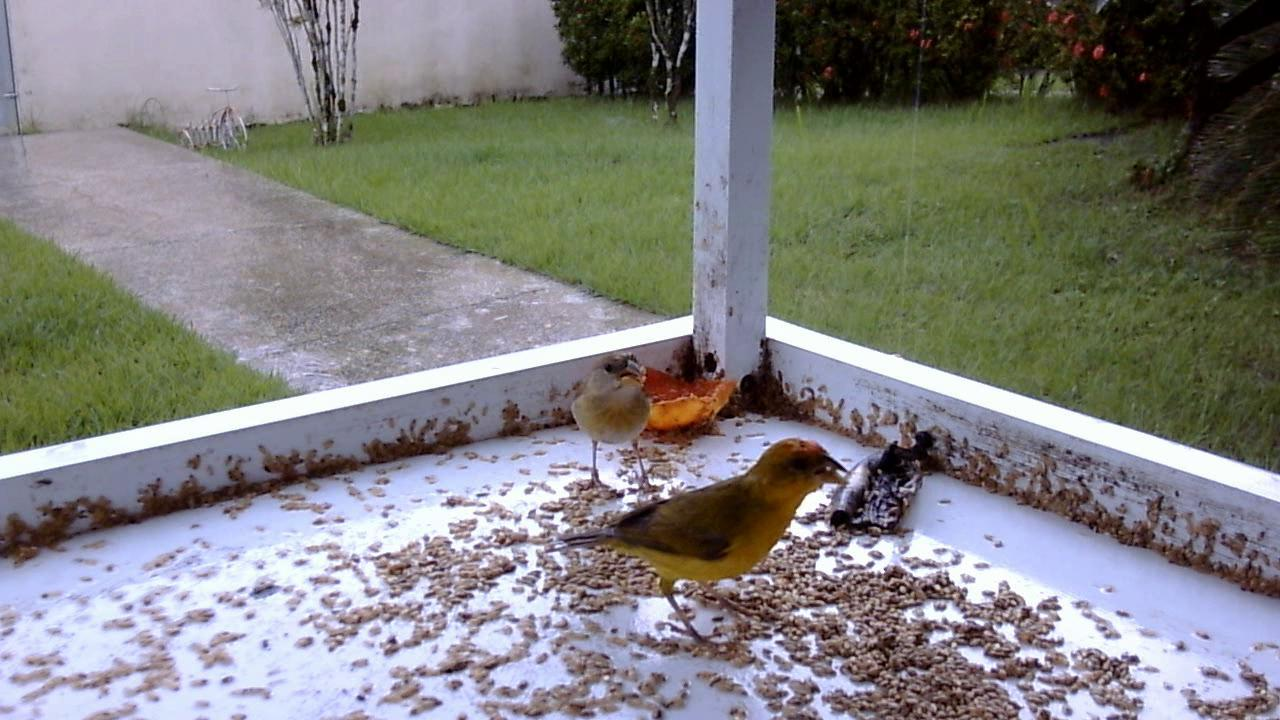canario_do_amazonas: (548, 434, 851, 656), (565, 357, 660, 502)
